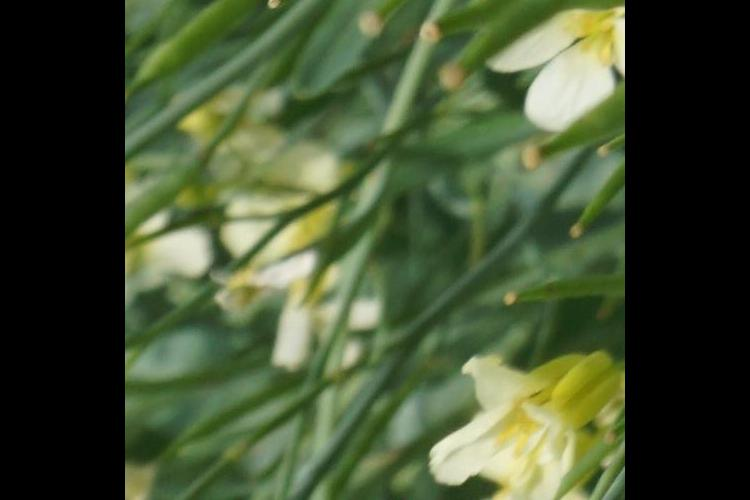pod: (502, 56, 617, 169), (430, 1, 542, 94), (493, 265, 612, 324), (411, 1, 543, 49), (562, 151, 620, 248), (332, 1, 438, 37)
white: (422, 315, 602, 500), (494, 1, 615, 143)
